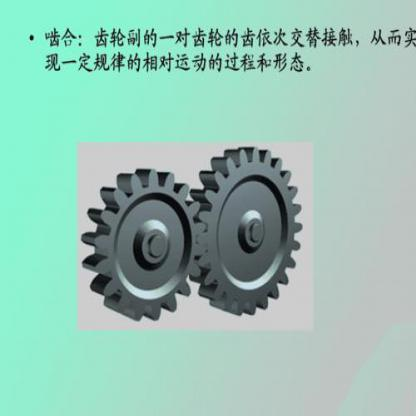FOD: (79, 158, 201, 325), (194, 144, 304, 318)
